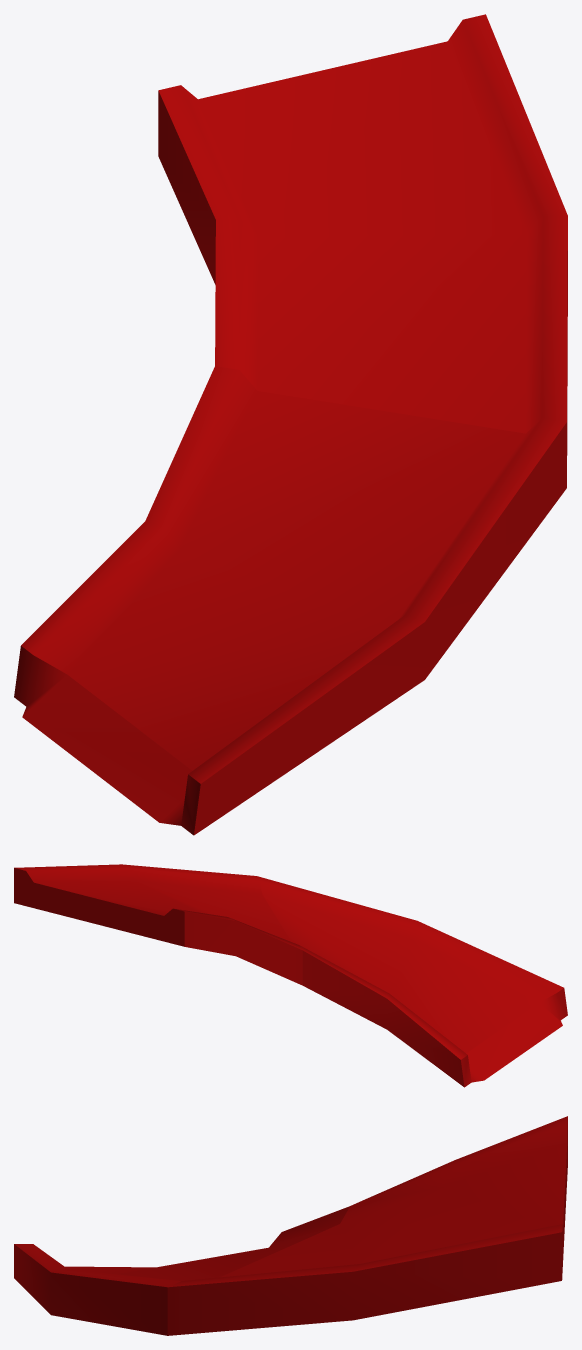
Rendered from SM_Env_SpiralStairs_01_Collision.glb.
3 renders of one model, top to bottom at view 1: azimuth 30°, elevation 25°; view 2: azimuth 150°, elevation 25°; view 3: azimuth 270°, elevation 25°, orthographic. The views are drawn at different scales.
Parts seen in each view (by area): view 1: SM_Env_SpiralStairs_01_Collision; view 2: SM_Env_SpiralStairs_01_Collision; view 3: SM_Env_SpiralStairs_01_Collision.
Part boxes in pixels (bbox=[...]): SM_Env_SpiralStairs_01_Collision: bbox=[14, 14, 567, 835]; SM_Env_SpiralStairs_01_Collision: bbox=[14, 864, 567, 1087]; SM_Env_SpiralStairs_01_Collision: bbox=[14, 1116, 567, 1335].
Bounding box in the file's own units: 10.72 × 5.85 × 10.32.
